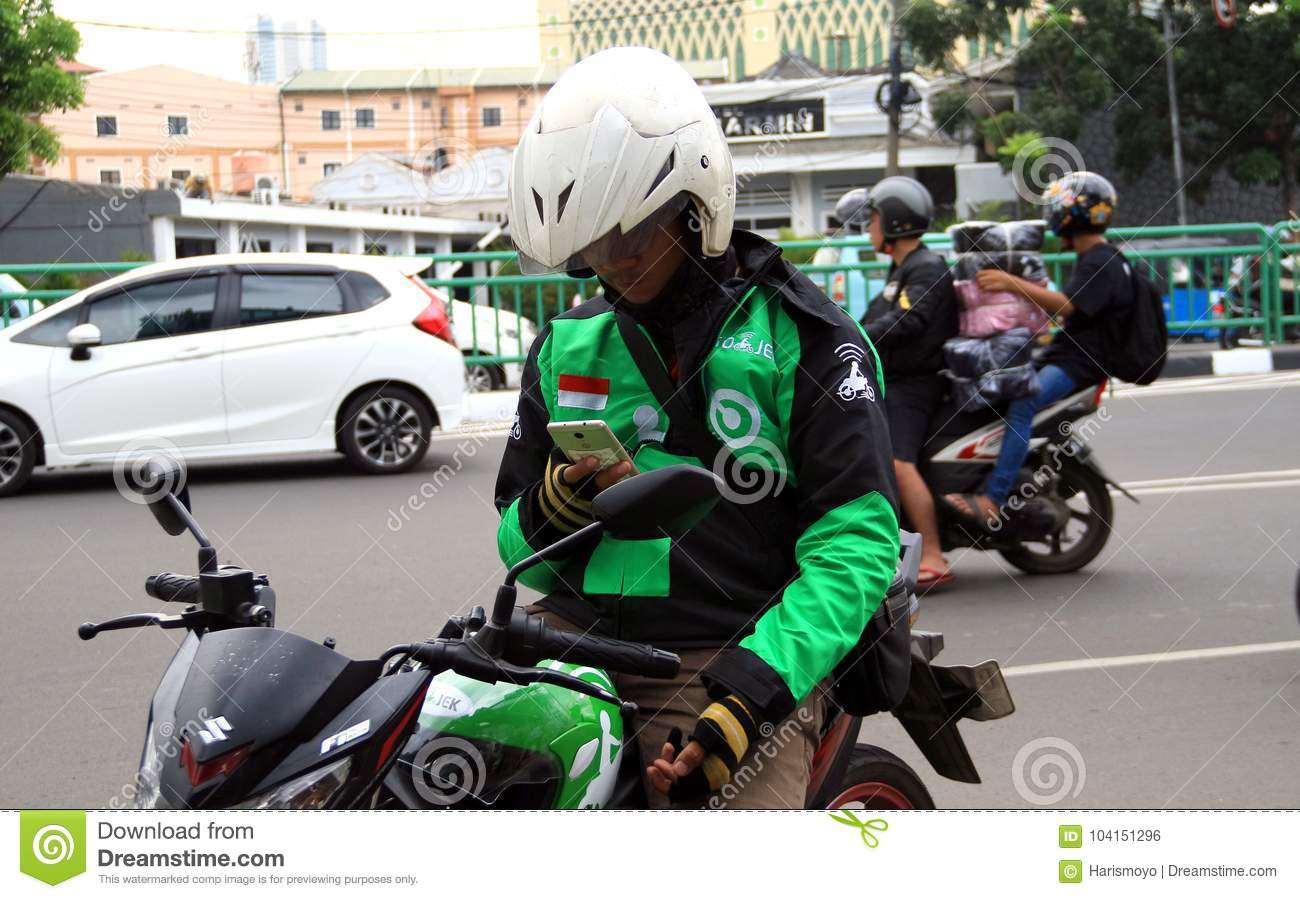su dung dien thoai: (506, 46, 733, 484)
